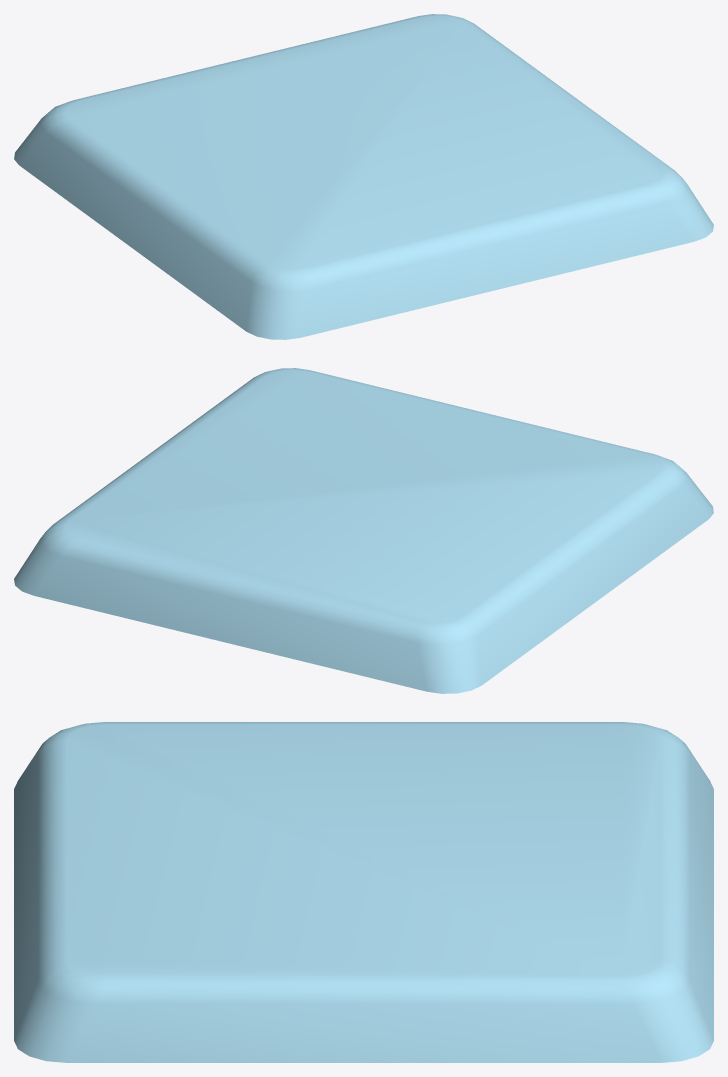
The model's file is Tile.fbx.
The picture shows the model from 3 angles, top to bottom: view 1: azimuth 30°, elevation 25°; view 2: azimuth 150°, elevation 25°; view 3: azimuth 270°, elevation 25°; orthographic projection. The views are drawn at different scales.
Visible parts, largest first — view 1: Tile; view 2: Tile; view 3: Tile.
Boxes of the visible parts, <box> form: Tile: <box>14,14,713,339</box>; Tile: <box>14,368,713,693</box>; Tile: <box>14,722,713,1062</box>.
Bounding box in the file's own units: 200 × 20.39 × 200.
